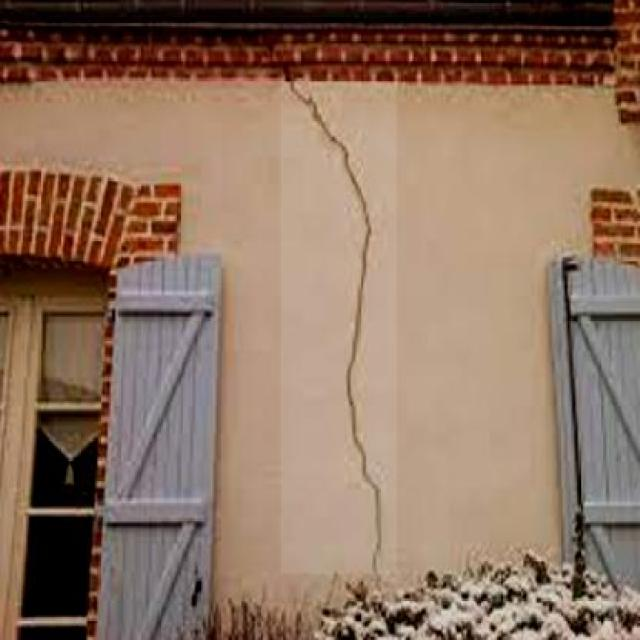Crack: (272, 70, 386, 550)
